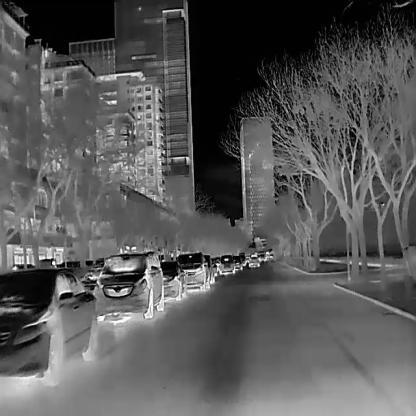car: (0, 264, 96, 387), (92, 251, 163, 317), (178, 250, 206, 291), (159, 259, 185, 301), (219, 252, 234, 275), (248, 254, 259, 267), (235, 255, 242, 271)
